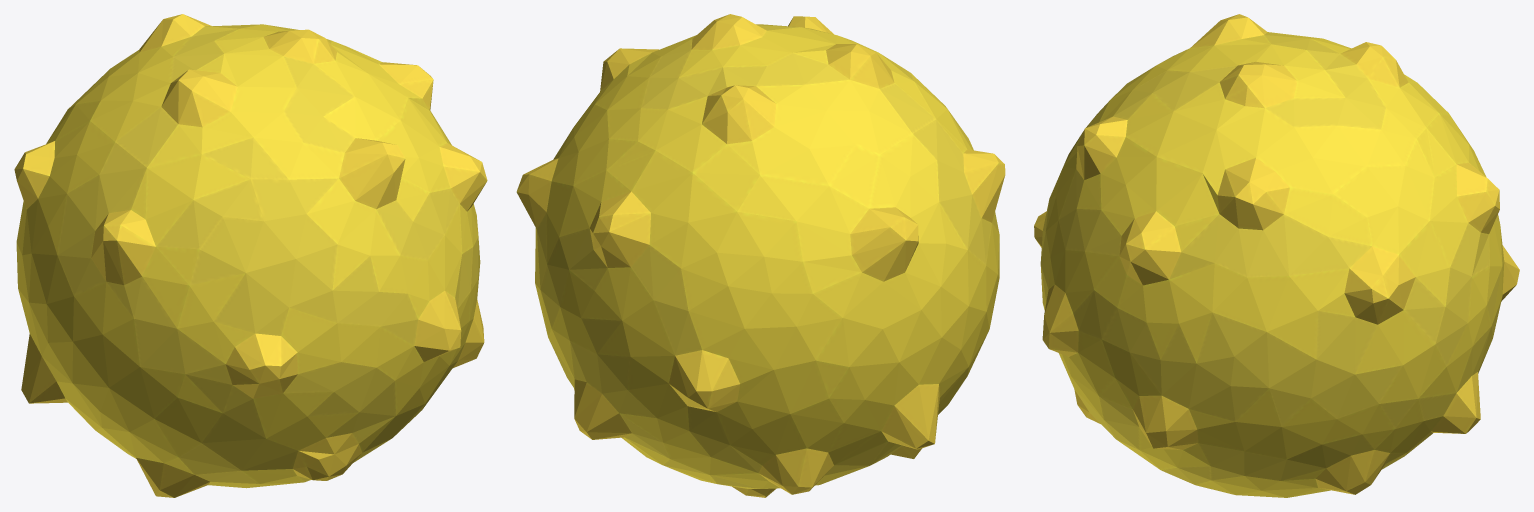
File: Sun.FBX
3 views of the same model, side by side, from view 1: azimuth 30°, elevation 25°; view 2: azimuth 150°, elevation 25°; view 3: azimuth 270°, elevation 25° (orthographic).
Visible parts, largest first — view 1: Sun; view 2: Sun; view 3: Sun.
Boxes of the visible parts, bbox=[...] form: Sun: bbox=[14, 14, 487, 497]; Sun: bbox=[516, 14, 1005, 497]; Sun: bbox=[1034, 14, 1519, 497].
Size of the model in its own units: 2.3 by 2.46 by 2.4.
